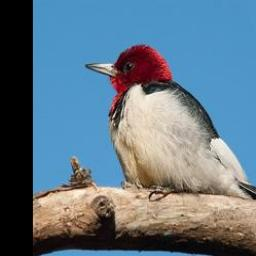Woodpecker: (84, 44, 256, 206)
